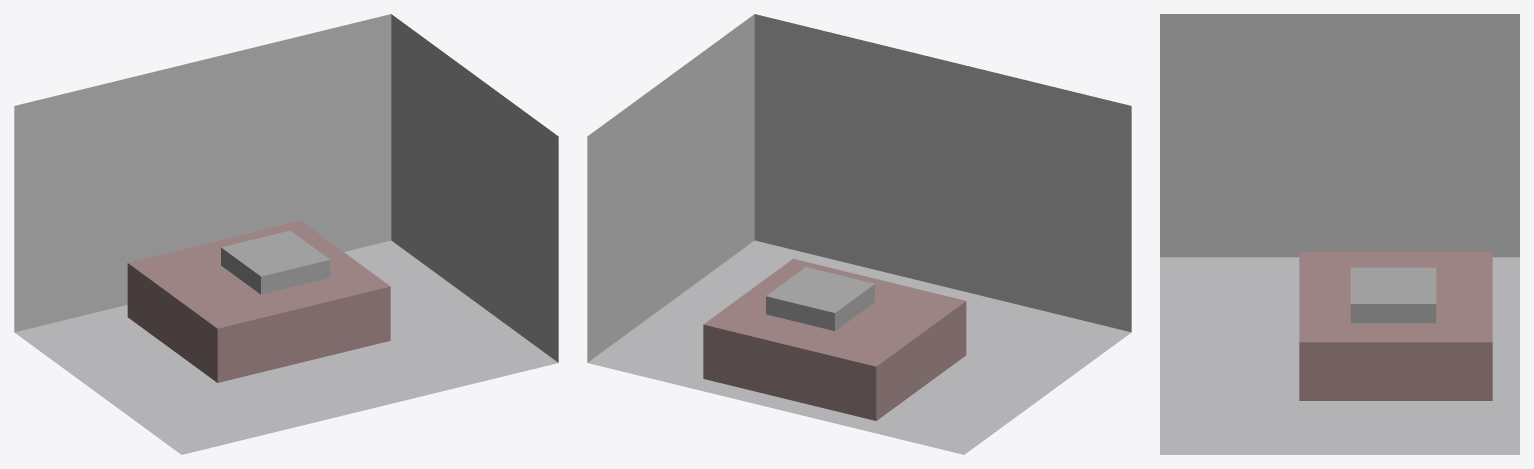
Rendered from optimised_layout.glb.
The picture shows the model from 3 angles, left to right: view 1: azimuth 30°, elevation 25°; view 2: azimuth 150°, elevation 25°; view 3: azimuth 270°, elevation 25°; orthographic projection. The views are drawn at different scales.
Visible parts, largest first — view 1: room, bed, wardrobe; view 2: room, bed, wardrobe; view 3: room, bed, wardrobe.
Part boxes in pixels (x1,y1,x2,y2): room: [14, 14, 558, 454]; bed: [127, 220, 390, 382]; wardrobe: [221, 230, 330, 294]; room: [587, 14, 1131, 454]; bed: [703, 258, 966, 420]; wardrobe: [766, 267, 874, 330]; room: [1160, 14, 1519, 454]; bed: [1299, 251, 1492, 400]; wardrobe: [1350, 267, 1436, 323].
Bounding box in the file's own units: 4.36 × 2.5 × 3.35.
